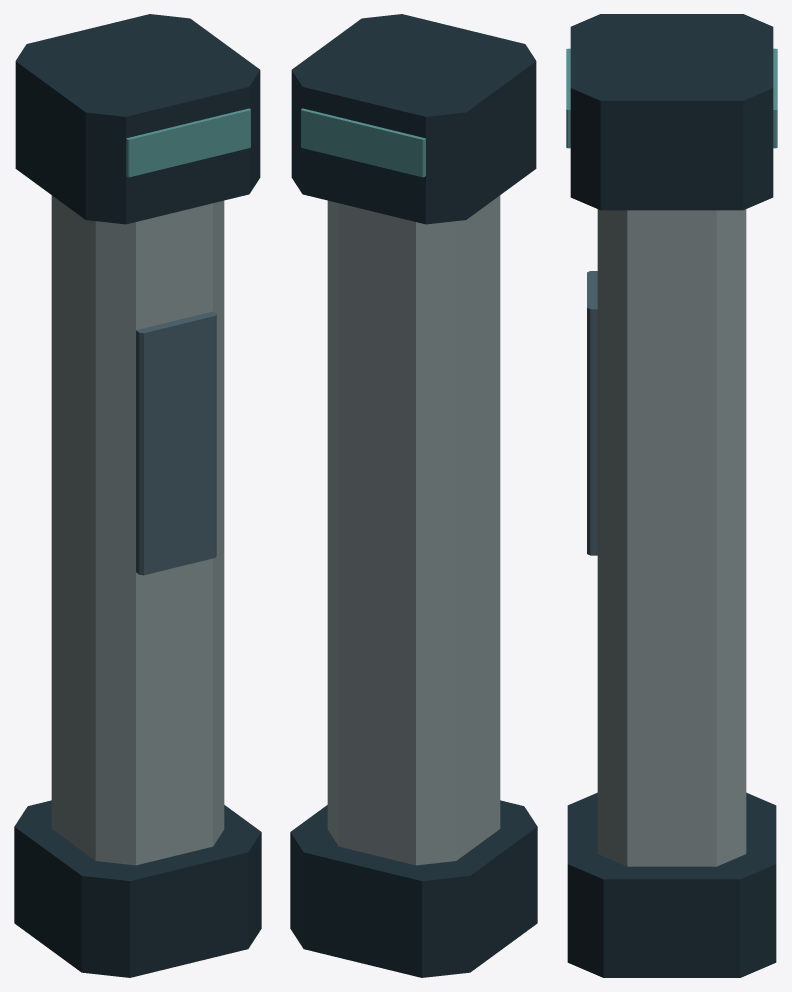
Rendered from gate_post.glb.
3 renders of one model, left to right at view 1: azimuth 30°, elevation 25°; view 2: azimuth 150°, elevation 25°; view 3: azimuth 270°, elevation 25°, orthographic.
Visible parts, largest first — view 1: gate_post; view 2: gate_post; view 3: gate_post.
Part boxes in pixels (x1=…): gate_post: x1=14, y1=14, x2=261, y2=977; gate_post: x1=290, y1=14, x2=537, y2=977; gate_post: x1=566, y1=14, x2=777, y2=977.
Bounding box in the file's own units: 0.7 × 3.2 × 0.7.
